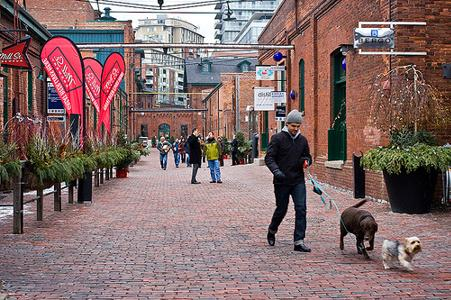person: (264, 107, 310, 252)
